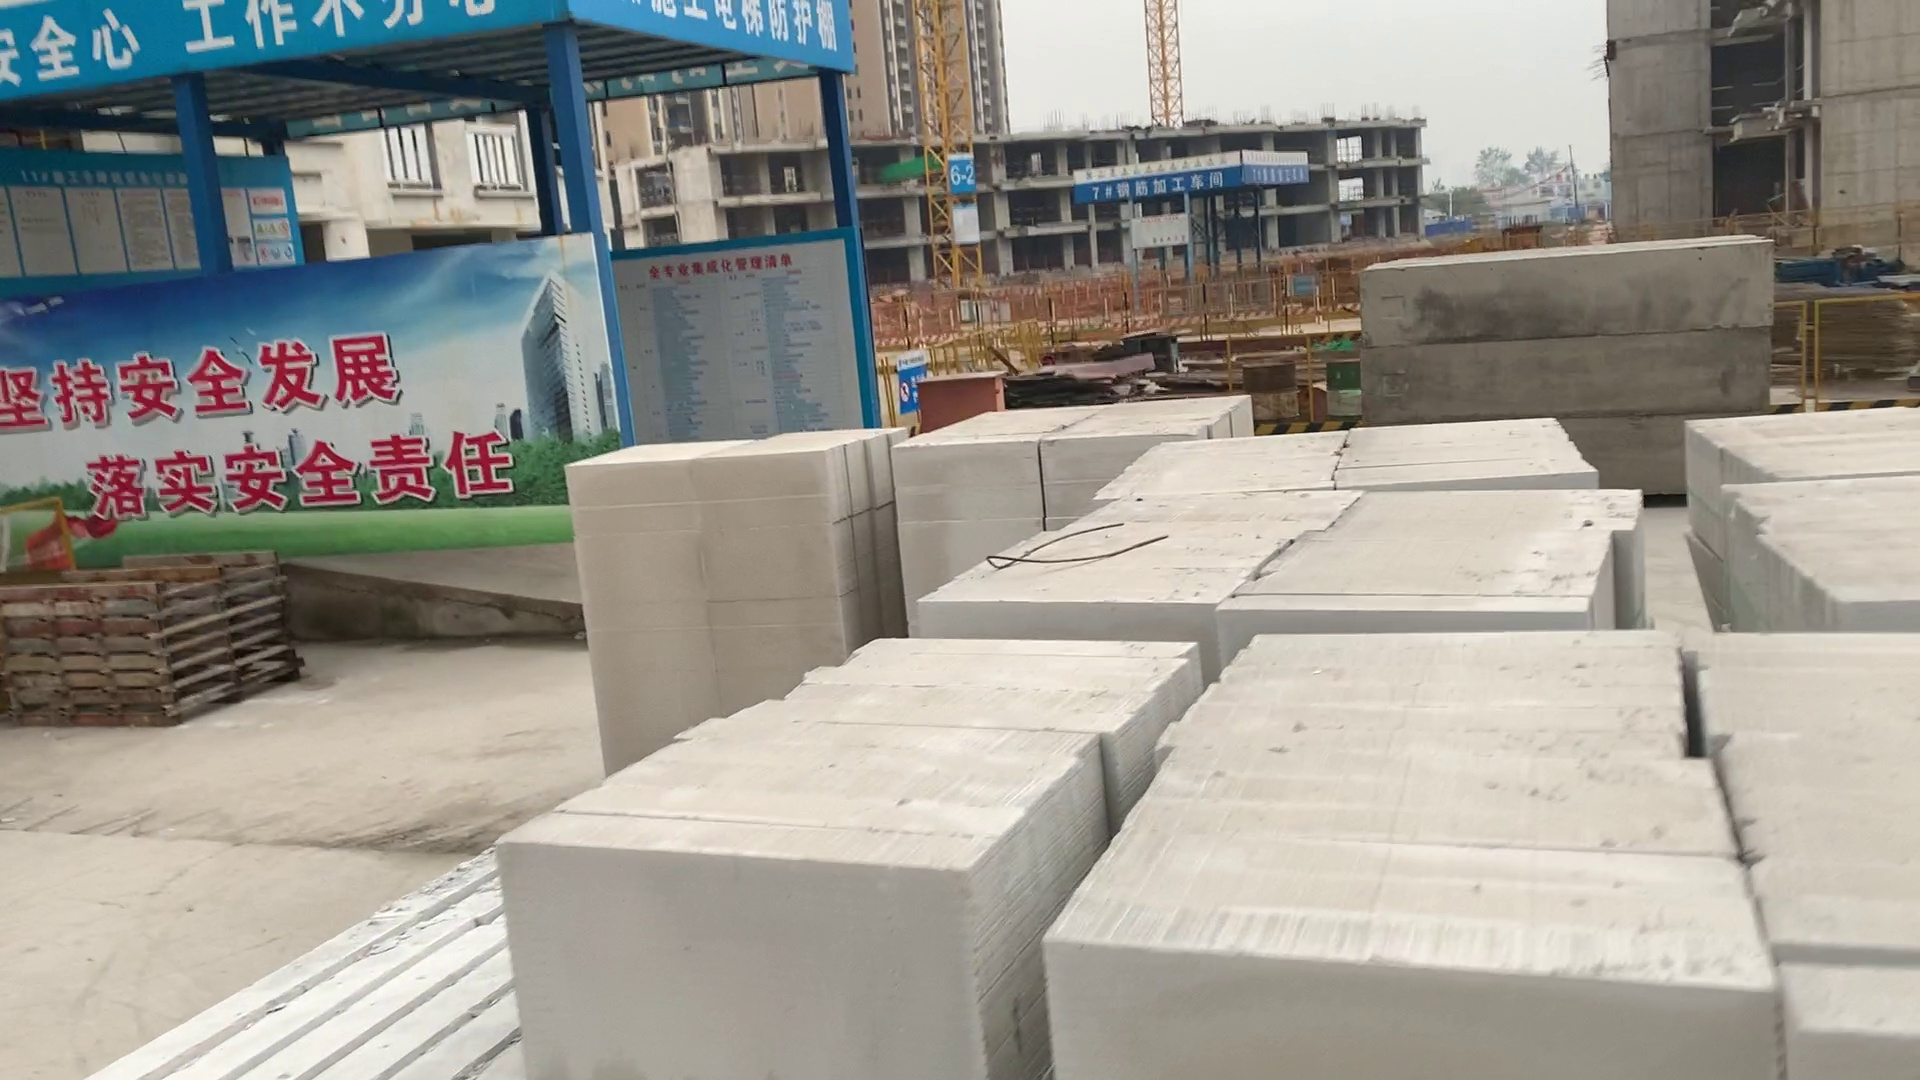brickwork: (1065, 625, 1766, 1080), (502, 633, 1108, 1080), (550, 433, 866, 750), (934, 493, 1646, 634), (1697, 620, 1915, 1080), (895, 389, 1242, 483), (1112, 427, 1607, 491), (1702, 481, 1919, 622), (1685, 404, 1920, 480)
